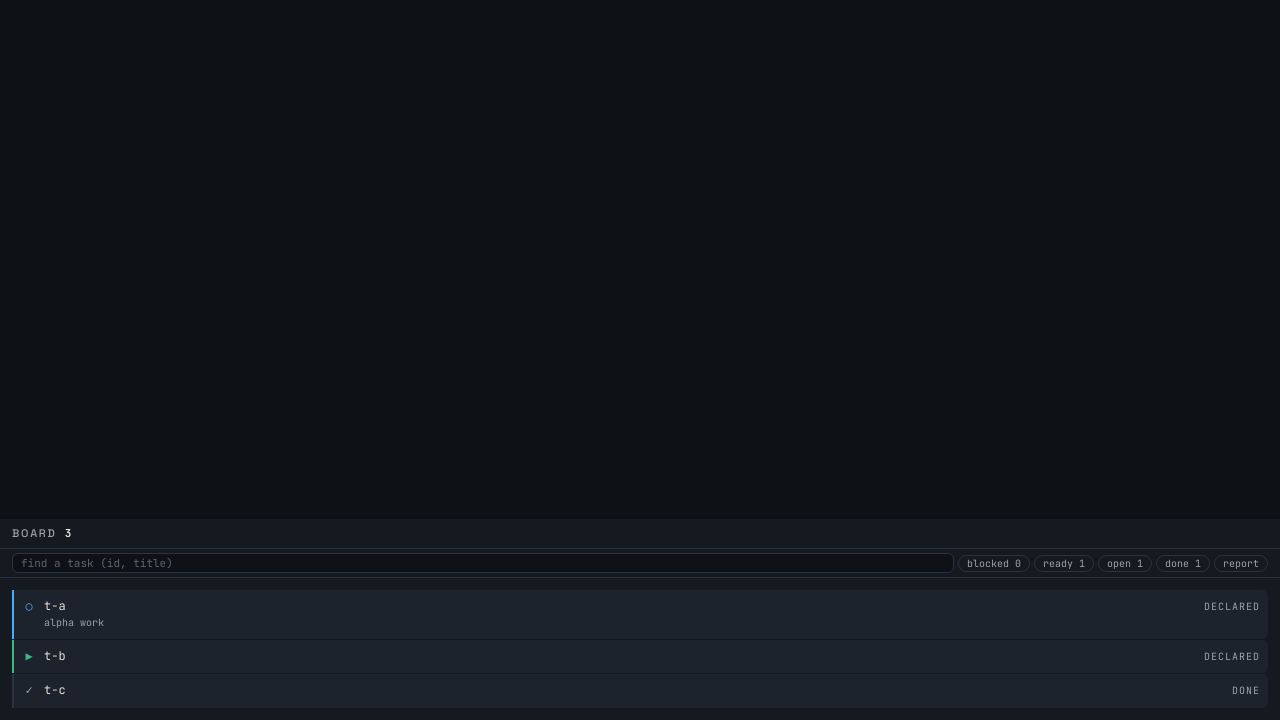
Test case: TaskBoard › filters by bucket chips and finds by text
The width and height of the screenshot is (1280, 720).
(page scrolled)
Expected: the button "open 1" is shown, left=1098, top=554, right=1152, bottom=572
Click the button "ready 1" at [1064, 563], box left=1034, top=554, right=1094, bottom=572
(page scrolled)
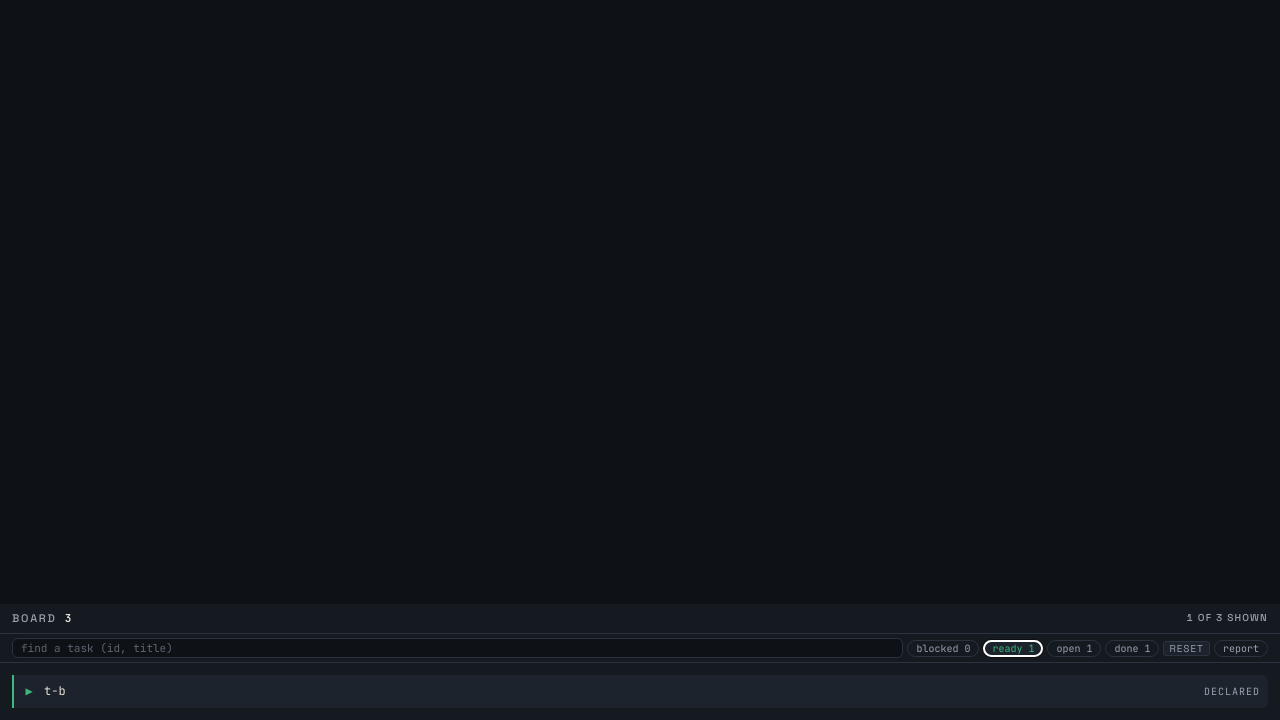
Expected: the text "t-b" is shown, left=44, top=683, right=66, bottom=699
Expected: the text "t-a" is gone
Click the button "ready 1" at [1013, 648], box left=983, top=640, right=1043, bottom=656
(page scrolled)
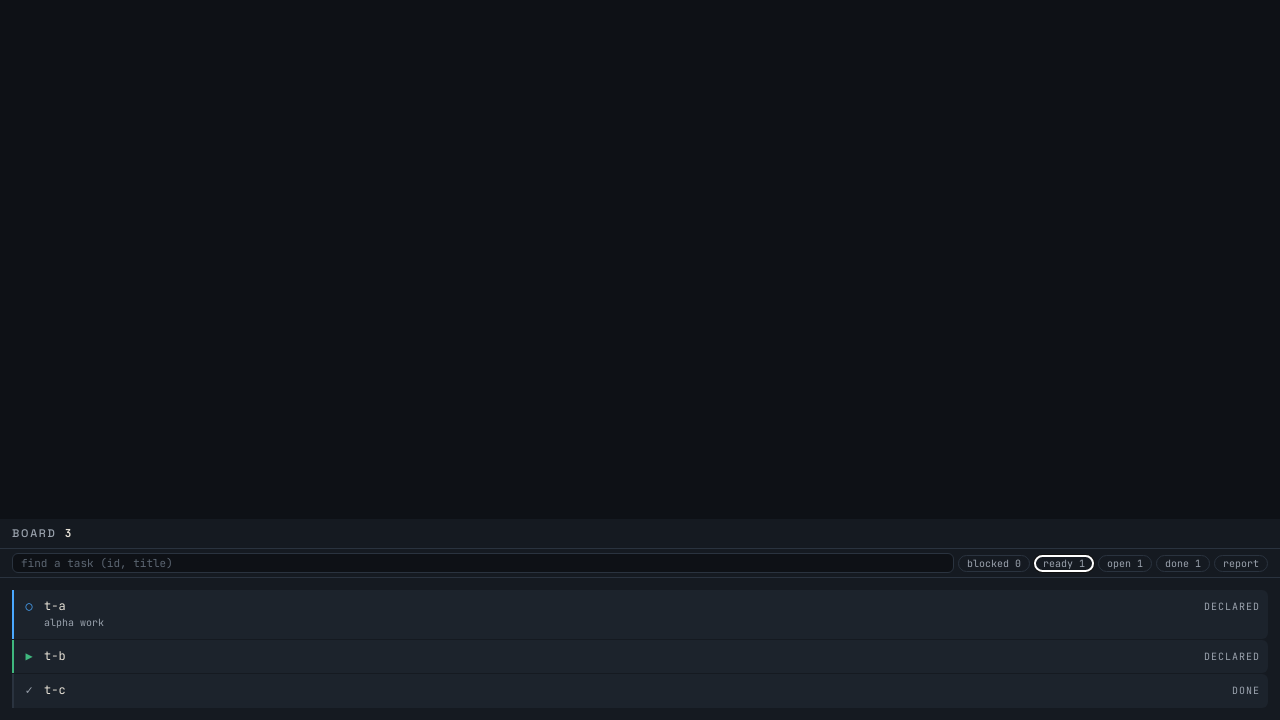
Type "alpha" into the field named "Find a task by id or title" at [483, 563], box left=12, top=553, right=954, bottom=573
(page scrolled)
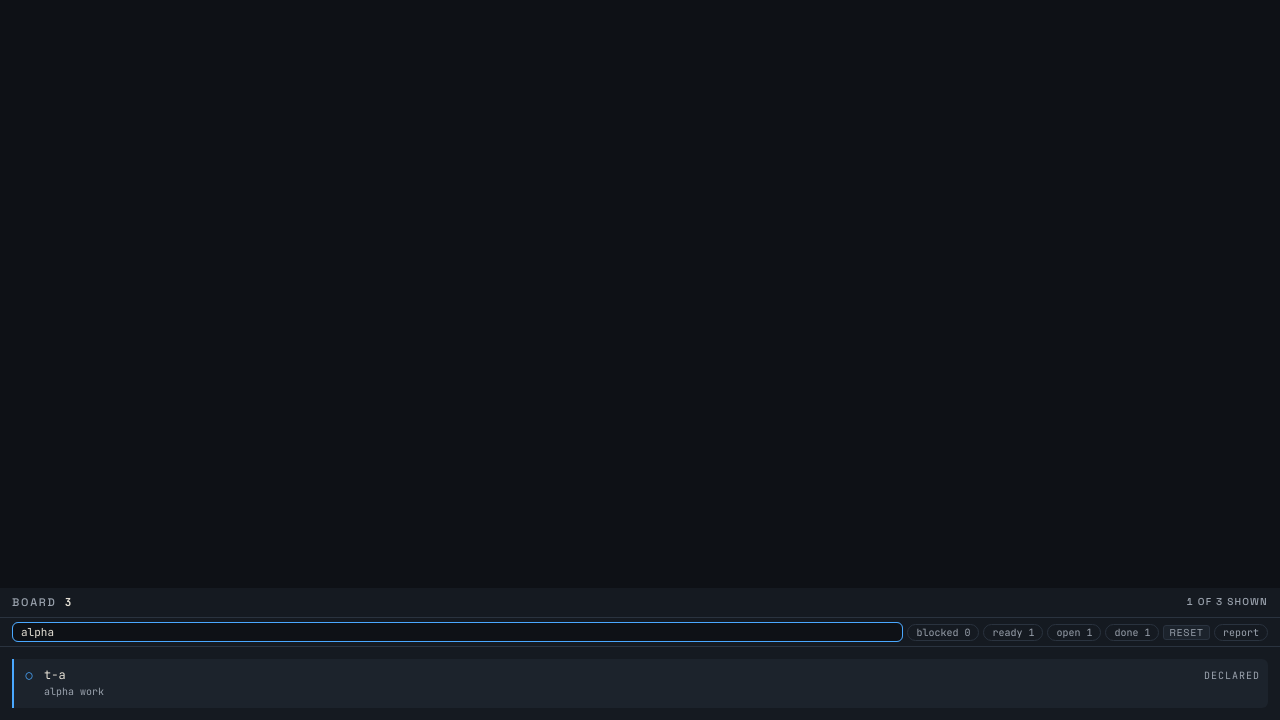
Expected: the text "t-a" is shown, left=44, top=667, right=66, bottom=683
Expected: the text "t-b" is gone
